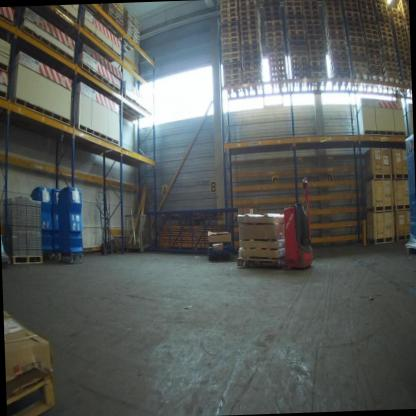pallet: (7, 376, 56, 416), (237, 256, 285, 269), (9, 253, 44, 266), (378, 21, 393, 35), (221, 30, 241, 40), (222, 51, 242, 60), (332, 71, 352, 80), (331, 65, 351, 74), (223, 72, 242, 81), (243, 69, 262, 78), (242, 43, 261, 52), (220, 6, 239, 15), (239, 9, 260, 17), (351, 61, 369, 70), (222, 57, 242, 65), (221, 37, 241, 45), (242, 64, 262, 72), (240, 24, 260, 32), (324, 15, 344, 23), (385, 75, 401, 85), (385, 70, 401, 80), (383, 60, 399, 70), (352, 67, 369, 76), (223, 63, 242, 71), (222, 47, 241, 55), (222, 42, 241, 50), (221, 21, 240, 29), (243, 76, 262, 84), (242, 49, 261, 57), (221, 16, 240, 24), (264, 19, 283, 27), (330, 55, 349, 63), (327, 33, 346, 41), (324, 10, 343, 18), (370, 73, 385, 83), (380, 34, 395, 44), (224, 79, 242, 87), (243, 59, 261, 67), (243, 53, 261, 61), (266, 35, 284, 43), (263, 5, 281, 13), (292, 72, 310, 80), (350, 56, 368, 64), (347, 35, 365, 43), (343, 10, 361, 18), (362, 22, 378, 31), (360, 8, 376, 17), (241, 34, 261, 41), (241, 30, 261, 37), (240, 19, 260, 26), (239, 5, 259, 12), (239, 0, 259, 7), (328, 45, 348, 52), (326, 29, 346, 36), (322, 5, 342, 12), (375, 2, 389, 12), (268, 51, 285, 59), (289, 34, 306, 42), (309, 49, 326, 57), (353, 72, 370, 80), (349, 45, 366, 53), (342, 1, 359, 9), (367, 47, 382, 56), (381, 40, 396, 49), (379, 30, 394, 39), (376, 11, 391, 20), (223, 68, 242, 75), (221, 26, 240, 33), (241, 39, 260, 46), (220, 2, 239, 9), (266, 41, 285, 48), (265, 30, 284, 37), (331, 61, 350, 68), (329, 50, 348, 57), (327, 40, 346, 47), (325, 20, 344, 27), (322, 1, 341, 8), (393, 25, 406, 35), (269, 57, 285, 65), (369, 68, 385, 76), (368, 58, 384, 66), (365, 38, 381, 46), (364, 32, 380, 40), (363, 28, 379, 36), (384, 66, 400, 74), (221, 12, 239, 19), (267, 47, 285, 54), (265, 25, 283, 32), (264, 10, 282, 17), (292, 66, 310, 73), (290, 45, 308, 52), (289, 40, 307, 47), (288, 29, 306, 36), (287, 24, 305, 31), (310, 71, 328, 78), (349, 51, 367, 58), (348, 41, 366, 48), (346, 31, 364, 38), (344, 16, 362, 23), (383, 55, 397, 64), (382, 45, 396, 54), (377, 16, 391, 25), (325, 25, 345, 31), (369, 63, 384, 71), (362, 18, 377, 26), (361, 13, 376, 21), (360, 4, 375, 12), (397, 0, 409, 10), (270, 74, 287, 81), (269, 64, 286, 71), (292, 61, 309, 68), (287, 18, 304, 25), (309, 55, 326, 62), (308, 44, 325, 51), (307, 34, 324, 41), (304, 14, 321, 21), (302, 0, 319, 7), (346, 26, 363, 33), (345, 21, 362, 28), (376, 7, 389, 16), (397, 45, 410, 54), (396, 40, 409, 49), (394, 30, 407, 39), (392, 17, 405, 26), (240, 15, 259, 21), (308, 39, 324, 46), (306, 28, 322, 35), (306, 24, 322, 31), (305, 19, 321, 26), (367, 53, 383, 60), (366, 44, 382, 51), (383, 51, 397, 59), (291, 56, 309, 62), (393, 21, 405, 30), (390, 7, 402, 16), (359, 0, 374, 7), (373, 0, 388, 7), (398, 54, 411, 62), (397, 50, 410, 58), (395, 36, 408, 44), (391, 13, 404, 21), (270, 70, 287, 76), (291, 51, 308, 57), (287, 14, 304, 20), (286, 5, 303, 11), (285, 1, 302, 7), (310, 66, 327, 72), (310, 61, 327, 67), (303, 5, 320, 11), (343, 6, 360, 12), (304, 9, 320, 15), (264, 16, 283, 21), (221, 0, 239, 5), (400, 64, 411, 72), (286, 10, 303, 15), (263, 2, 280, 7), (399, 60, 411, 67), (401, 69, 411, 77), (399, 4, 409, 12), (322, 0, 340, 4), (341, 0, 358, 4), (402, 75, 411, 82), (358, 0, 373, 4), (263, 0, 280, 3), (285, 0, 302, 2), (373, 0, 387, 2)
pallet_truck: (281, 176, 314, 271)
stillage: (122, 206, 151, 257)
